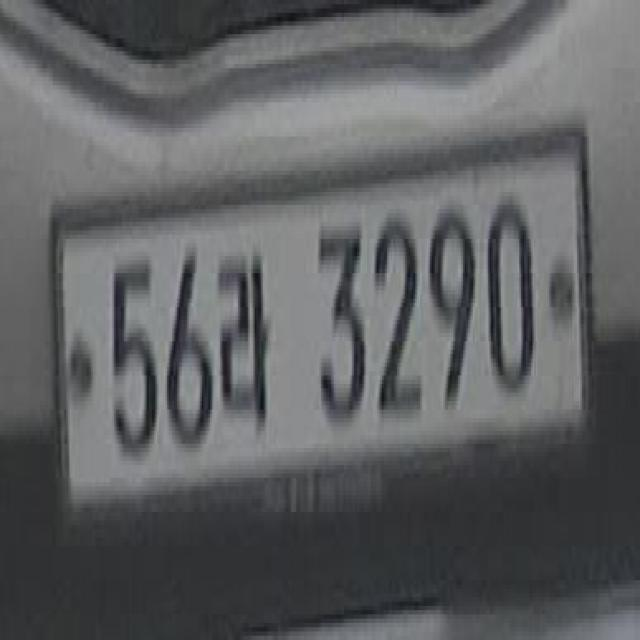illegal_plate: (52, 125, 599, 531)
